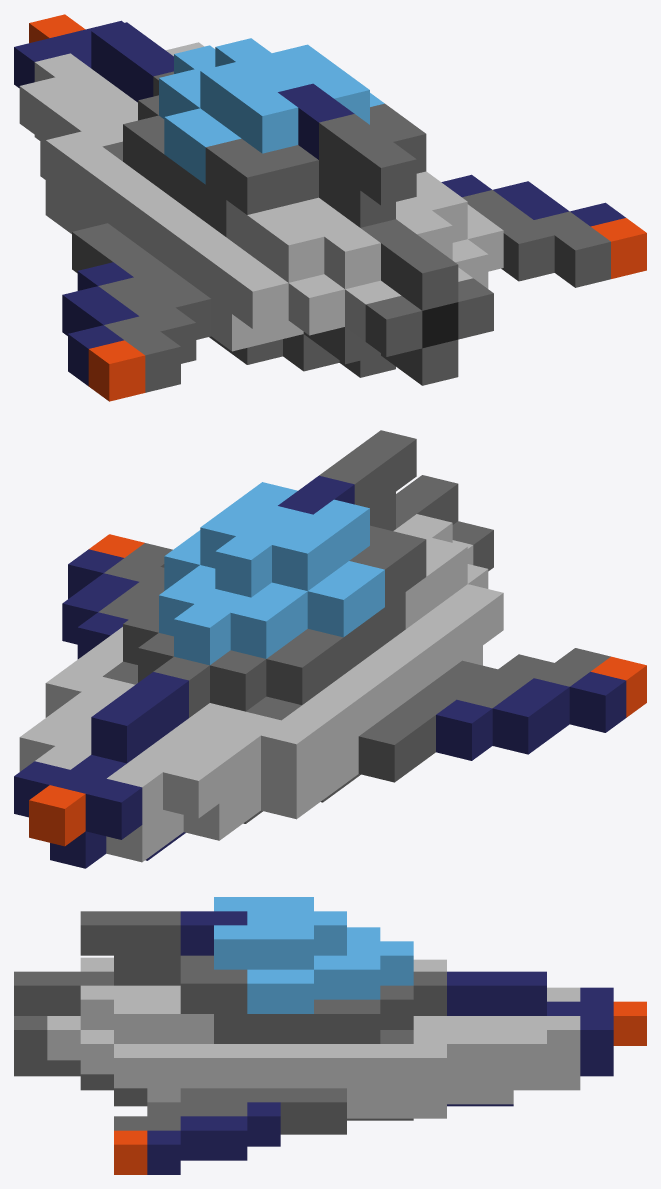
File: speeder_5.glb
3 views of the same model, one above another, from view 1: azimuth 30°, elevation 25°; view 2: azimuth 150°, elevation 25°; view 3: azimuth 270°, elevation 25° (orthographic). The views are drawn at different scales.
Bounding box in the file's own units: 15 × 6 × 19.
